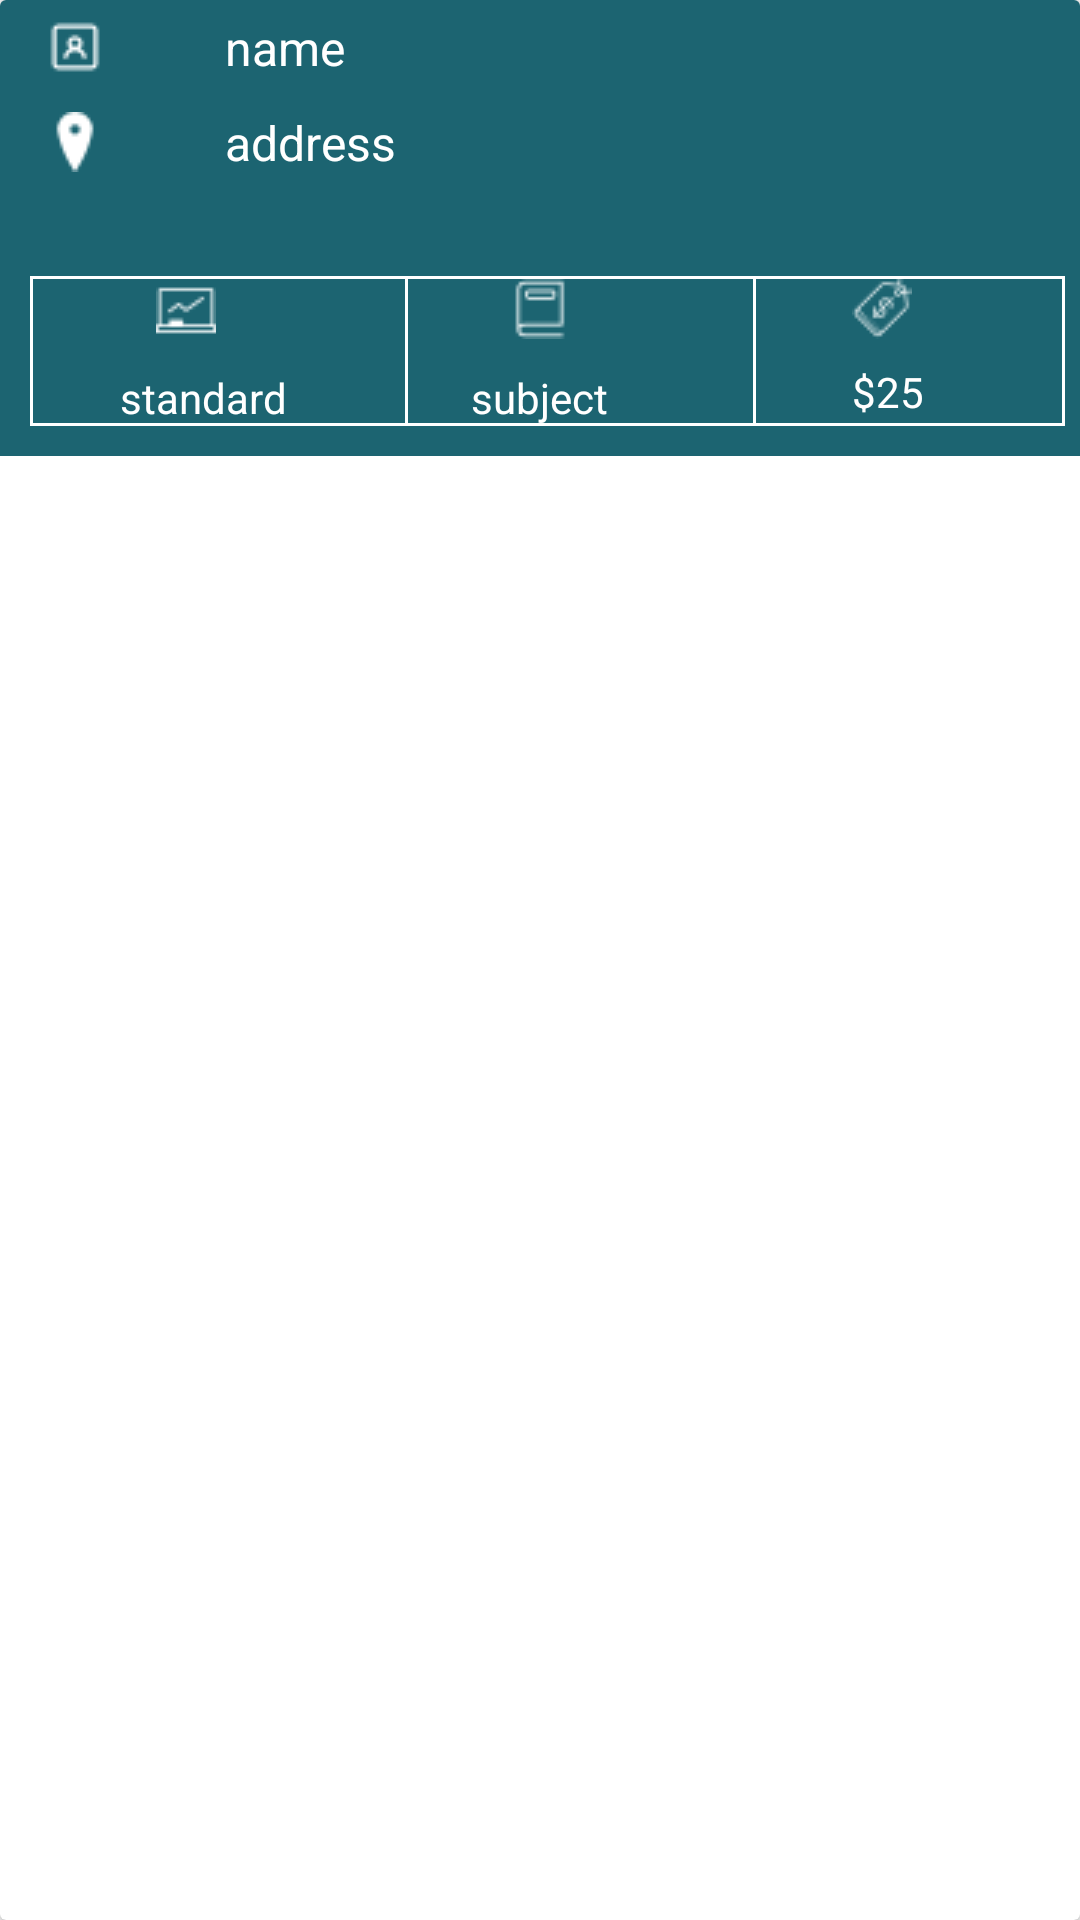

Icons on this 1080*1920 Android screen, each with the point to tap as point (x, y):
price: point (882, 308)
